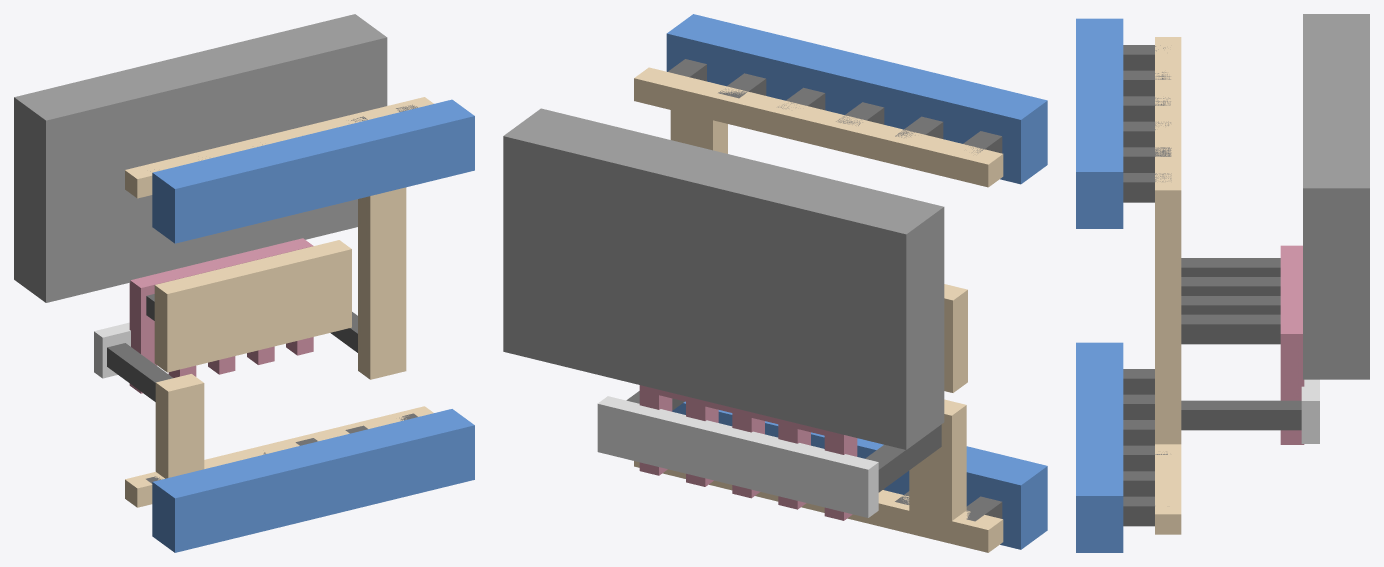
The model's file is sky130_fd_sc_hd__lpflow_bleeder_1.gds.gltf.
The picture shows the model from 3 angles, left to right: view 1: azimuth 30°, elevation 25°; view 2: azimuth 150°, elevation 25°; view 3: azimuth 270°, elevation 25°; orthographic projection. The views are drawn at different scales.
Parts seen in each view (by area): view 1: sky130_fd_sc_hd__lpflow_bleeder_1_nwell, sky130_fd_sc_hd__lpflow_bleeder_1_met1, sky130_fd_sc_hd__lpflow_bleeder_1_li1, sky130_fd_sc_hd__lpflow_bleeder_1_poly, sky130_fd_sc_hd__lpflow_bleeder_1_licon, sky130_fd_sc_hd__lpflow_bleeder_1_diff; view 2: sky130_fd_sc_hd__lpflow_bleeder_1_nwell, sky130_fd_sc_hd__lpflow_bleeder_1_met1, sky130_fd_sc_hd__lpflow_bleeder_1_li1, sky130_fd_sc_hd__lpflow_bleeder_1_diff, sky130_fd_sc_hd__lpflow_bleeder_1_poly, sky130_fd_sc_hd__lpflow_bleeder_1_mcon, sky130_fd_sc_hd__lpflow_bleeder_1_licon; view 3: sky130_fd_sc_hd__lpflow_bleeder_1_nwell, sky130_fd_sc_hd__lpflow_bleeder_1_met1, sky130_fd_sc_hd__lpflow_bleeder_1_li1, sky130_fd_sc_hd__lpflow_bleeder_1_licon, sky130_fd_sc_hd__lpflow_bleeder_1_mcon, sky130_fd_sc_hd__lpflow_bleeder_1_poly, sky130_fd_sc_hd__lpflow_bleeder_1_diff.
Part boxes in pixels (<box>): sky130_fd_sc_hd__lpflow_bleeder_1_nwell: <box>14,14,387,302</box>; sky130_fd_sc_hd__lpflow_bleeder_1_met1: <box>152,99,474,552</box>; sky130_fd_sc_hd__lpflow_bleeder_1_li1: <box>125,97,433,507</box>; sky130_fd_sc_hd__lpflow_bleeder_1_poly: <box>129,238,313,393</box>; sky130_fd_sc_hd__lpflow_bleeder_1_licon: <box>107,294,357,401</box>; sky130_fd_sc_hd__lpflow_bleeder_1_diff: <box>94,322,130,378</box>; sky130_fd_sc_hd__lpflow_bleeder_1_nwell: <box>503,108,944,449</box>; sky130_fd_sc_hd__lpflow_bleeder_1_met1: <box>666,14,1047,549</box>; sky130_fd_sc_hd__lpflow_bleeder_1_li1: <box>634,67,1003,552</box>; sky130_fd_sc_hd__lpflow_bleeder_1_diff: <box>597,396,878,517</box>; sky130_fd_sc_hd__lpflow_bleeder_1_poly: <box>639,385,857,520</box>; sky130_fd_sc_hd__lpflow_bleeder_1_mcon: <box>668,59,1002,521</box>; sky130_fd_sc_hd__lpflow_bleeder_1_licon: <box>626,391,941,492</box>; sky130_fd_sc_hd__lpflow_bleeder_1_nwell: <box>1303,14,1369,379</box>; sky130_fd_sc_hd__lpflow_bleeder_1_met1: <box>1076,18,1123,552</box>; sky130_fd_sc_hd__lpflow_bleeder_1_li1: <box>1155,37,1181,534</box>; sky130_fd_sc_hd__lpflow_bleeder_1_licon: <box>1181,258,1301,430</box>; sky130_fd_sc_hd__lpflow_bleeder_1_mcon: <box>1123,45,1171,526</box>; sky130_fd_sc_hd__lpflow_bleeder_1_poly: <box>1280,245,1304,444</box>; sky130_fd_sc_hd__lpflow_bleeder_1_diff: <box>1301,379,1319,443</box>.
Size of the model in its own units: 3.14 by 3.2 by 2.24.
